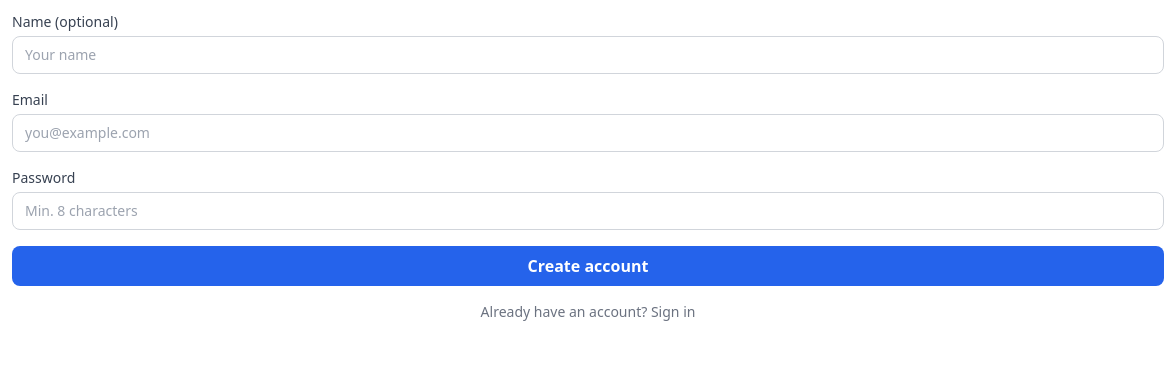
it: AuthForm › signup mode › shows 'Sign up failed' fallback when API returns no error message (line 58)
In the field with placeholder "you@example.com": (588, 133) [12, 114, 1164, 152], type "test@test.com"
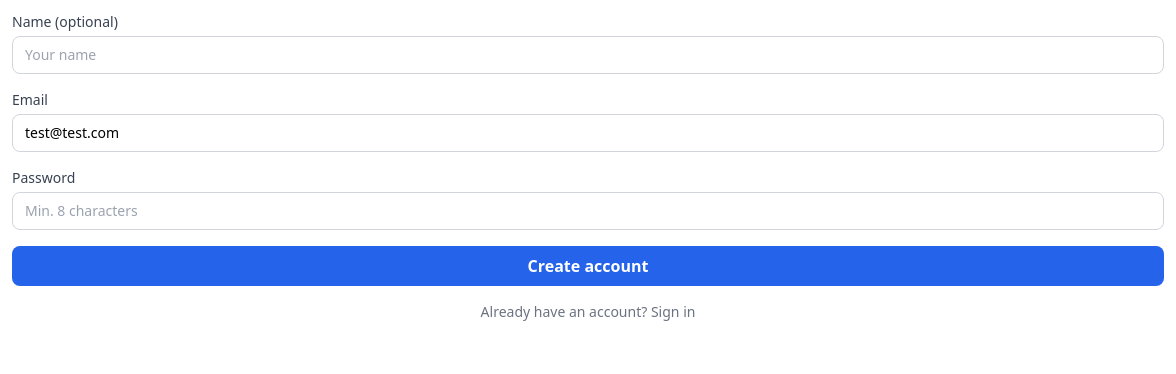
In the password field with placeholder "Min. 8 characters": (588, 211) [12, 192, 1164, 230], type "password123"
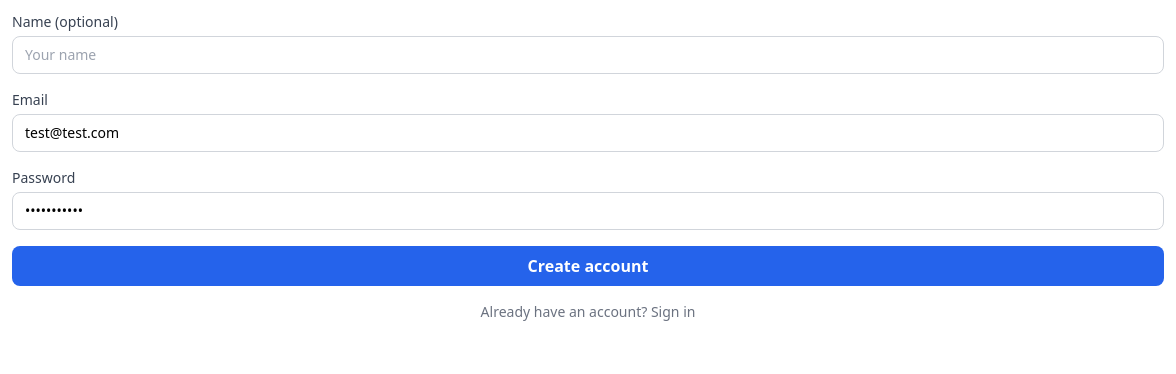
Submit the form from the button "Create account", box [12, 246, 1164, 286]
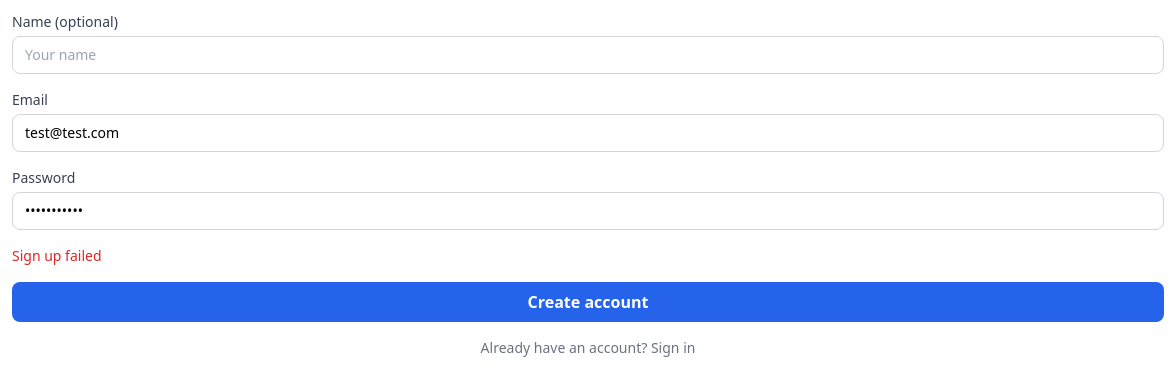
Now the text "Sign up failed" is shown, box [12, 246, 102, 265]
